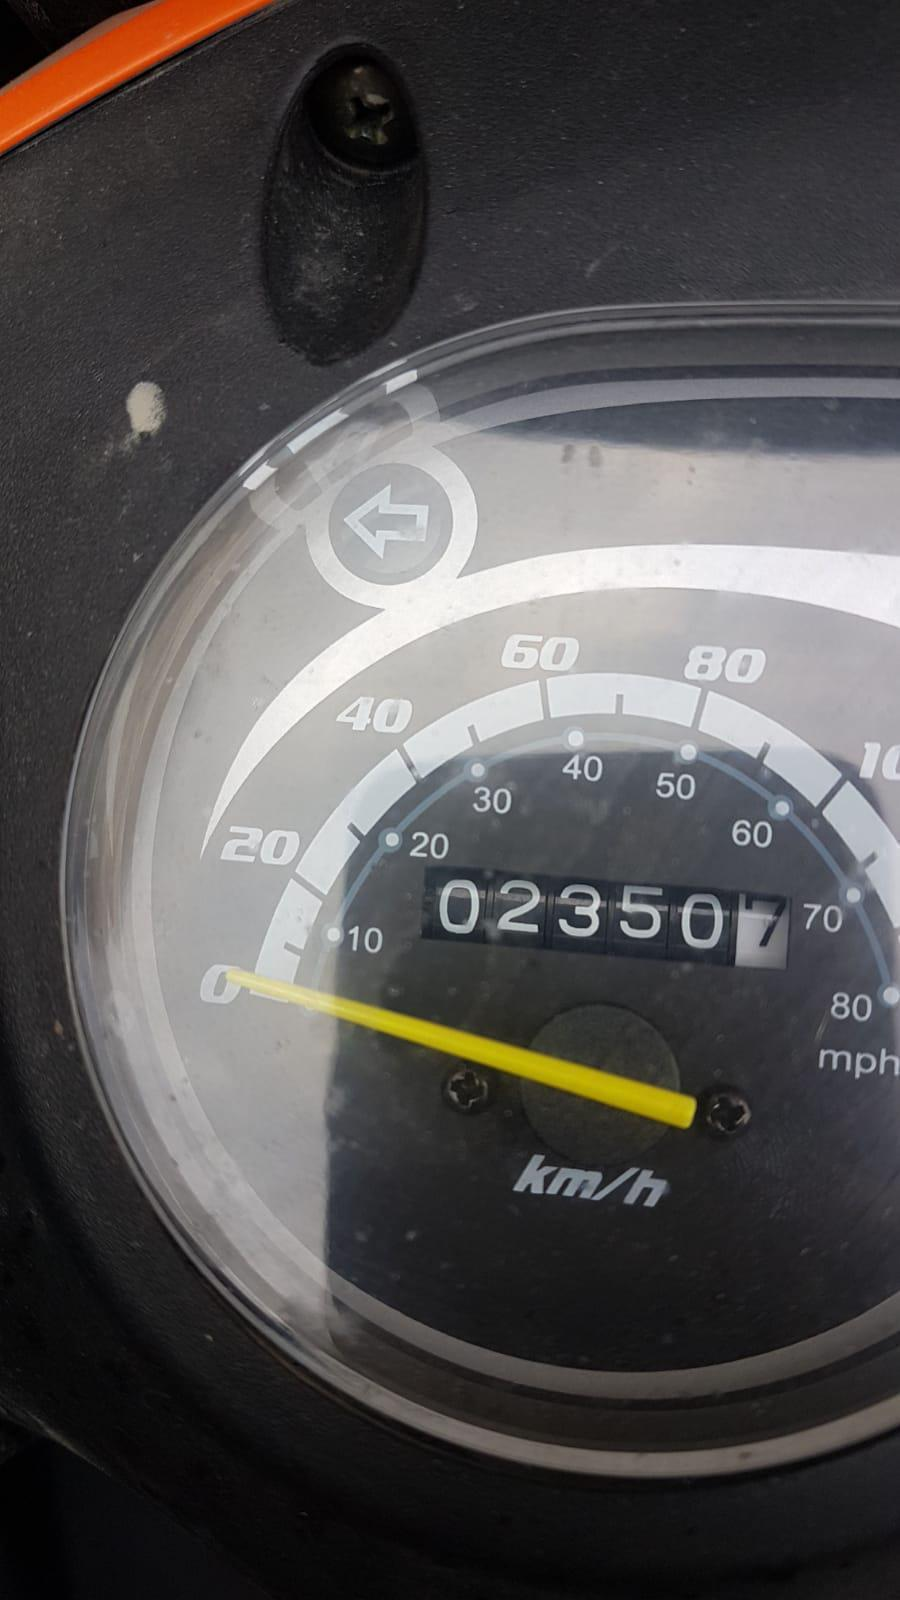0: (678, 889, 725, 955), (436, 874, 482, 937)
2: (495, 875, 543, 940)
3: (558, 879, 601, 938)
5: (619, 879, 664, 943)
7: (743, 886, 790, 951)
odometer: (412, 863, 800, 977)
